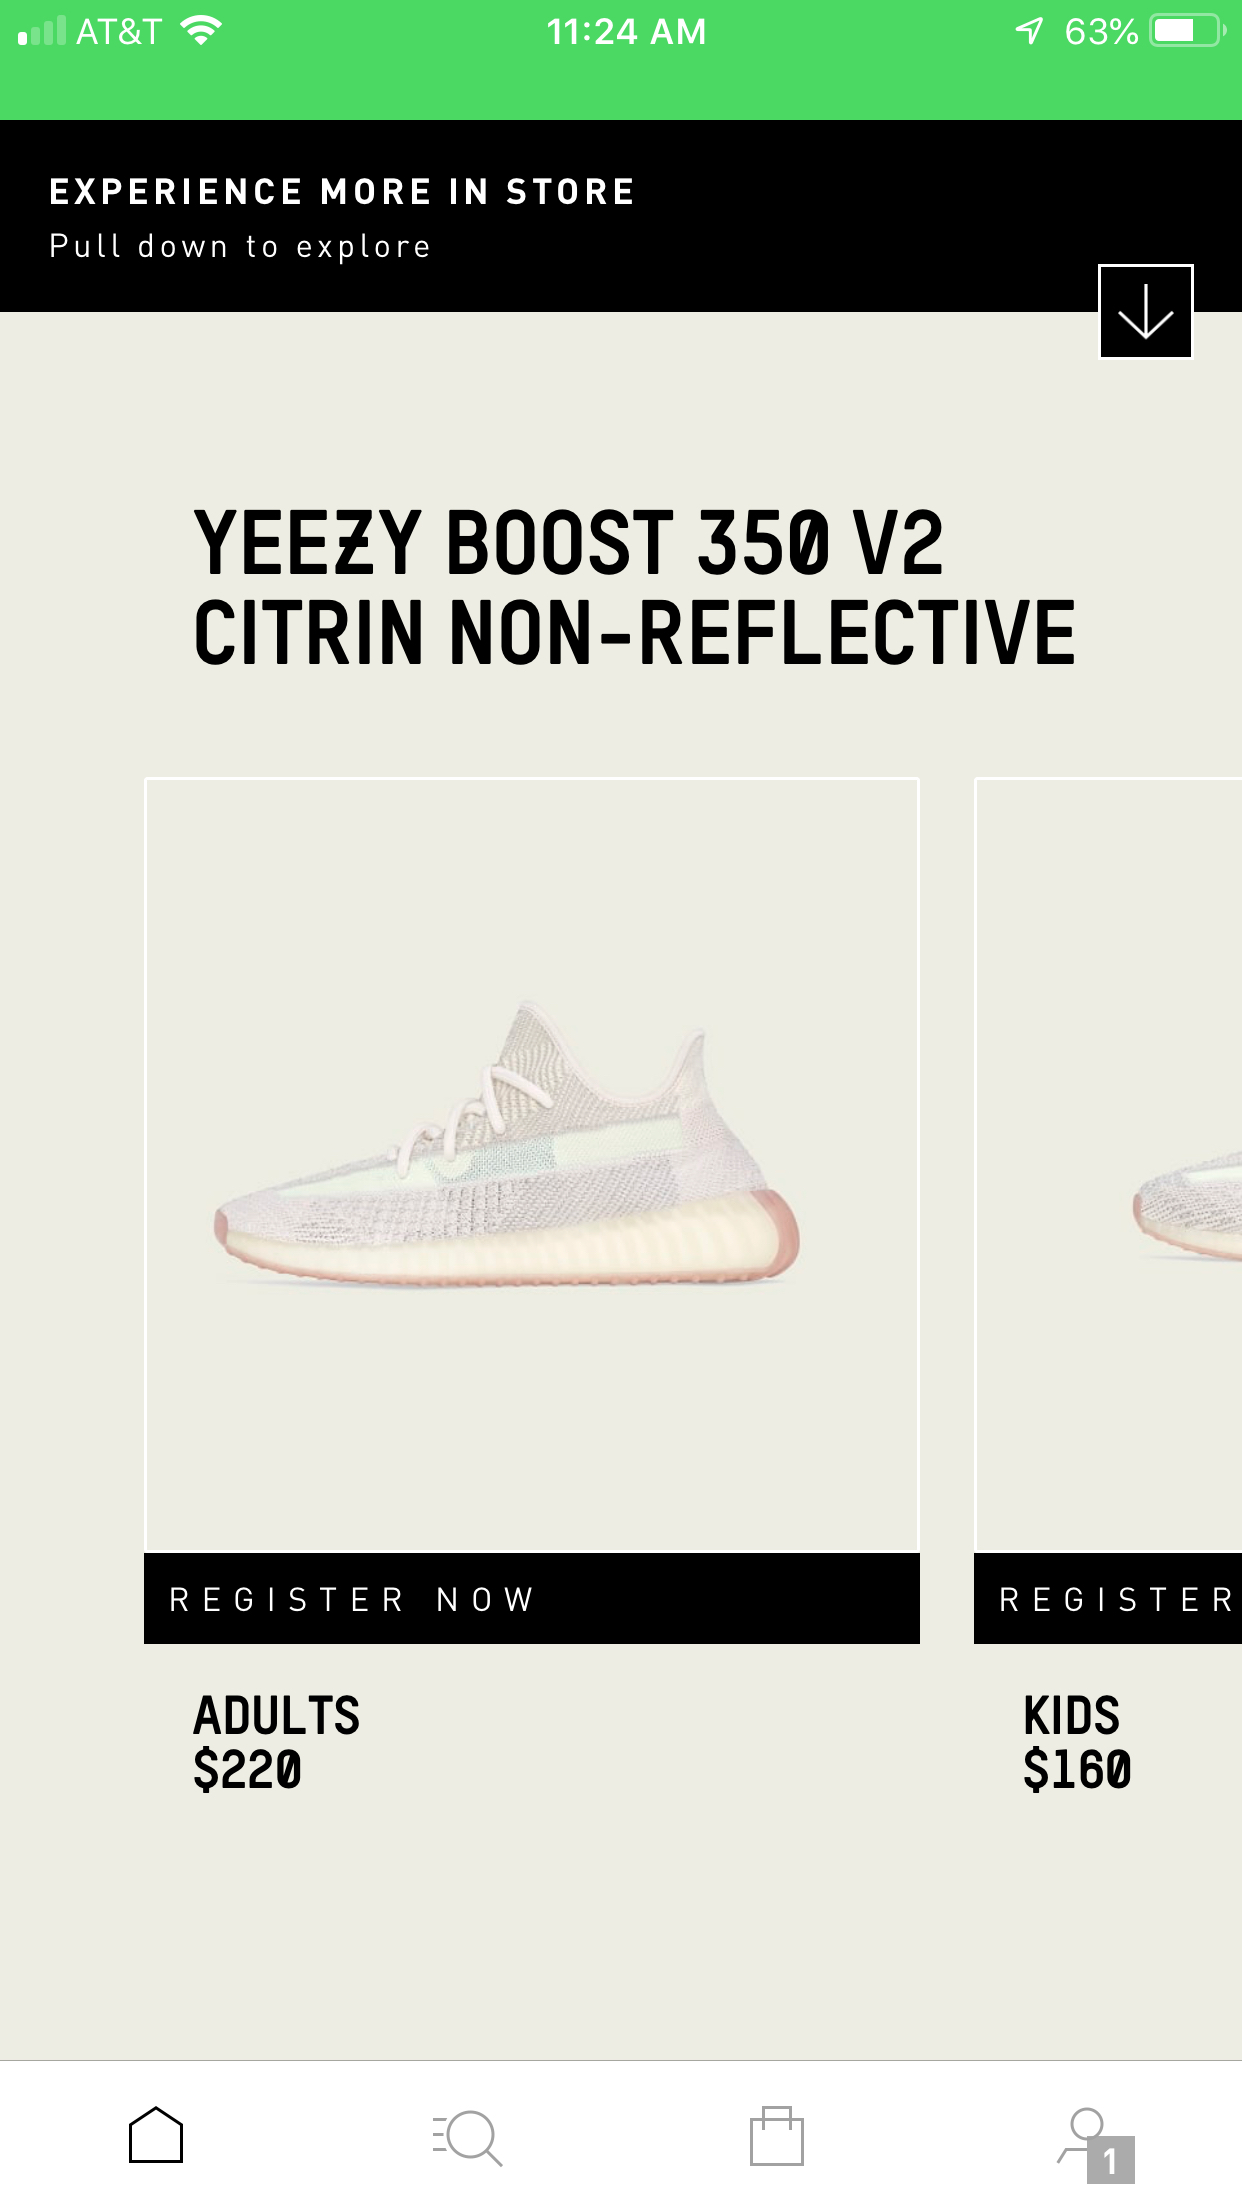Icon: (1098, 265, 1193, 362), (1055, 2106, 1134, 2184), (434, 2109, 503, 2169), (751, 2106, 805, 2167), (129, 2105, 183, 2163)
Image: (212, 999, 804, 1294), (1130, 1146, 1242, 1266)
Text: (194, 510, 1075, 667), (194, 1694, 361, 1794), (52, 179, 632, 206), (52, 234, 431, 265), (1024, 1694, 1131, 1794)
TextButton: (146, 1553, 921, 1645), (974, 1553, 1242, 1645)
UpperTaskBar: (2, 2, 1242, 49)
